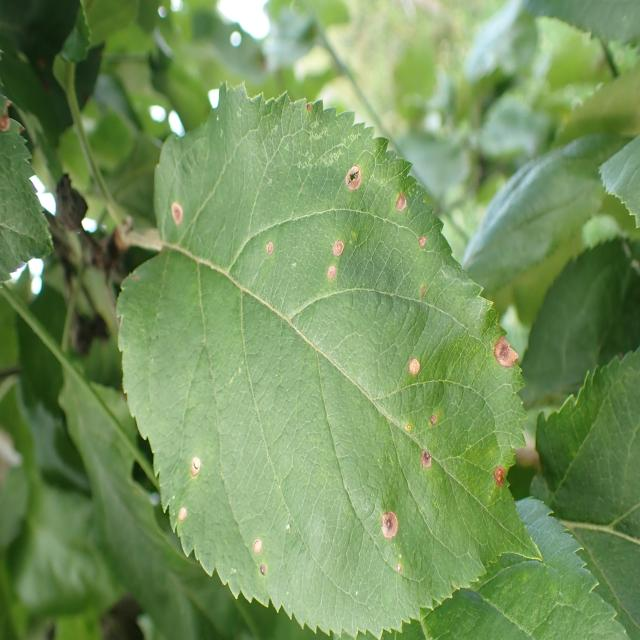Black Rot: (160, 195, 194, 258), (491, 322, 526, 381), (374, 180, 413, 228), (181, 435, 212, 493), (327, 159, 370, 197), (373, 509, 407, 557), (160, 499, 196, 544), (490, 442, 512, 507), (409, 444, 441, 482), (259, 223, 283, 267), (317, 226, 346, 261), (250, 554, 270, 593), (242, 534, 272, 559), (408, 339, 422, 386), (319, 263, 339, 290), (428, 404, 445, 434), (416, 283, 430, 311), (418, 228, 427, 261)
